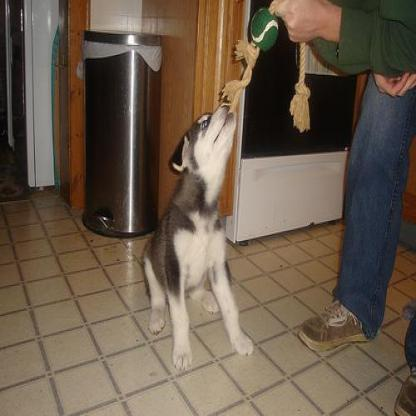malamute: (140, 99, 254, 372)
